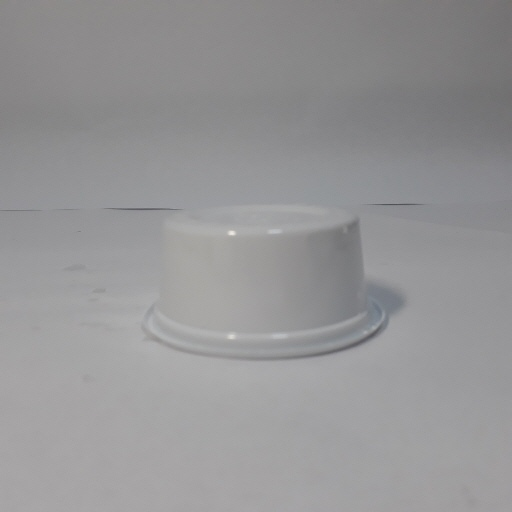Plastic_5: (141, 204, 390, 365)
